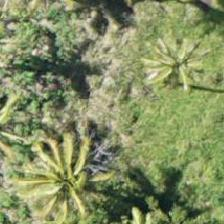coconut_tree: (124, 21, 214, 111), (20, 140, 110, 223)
